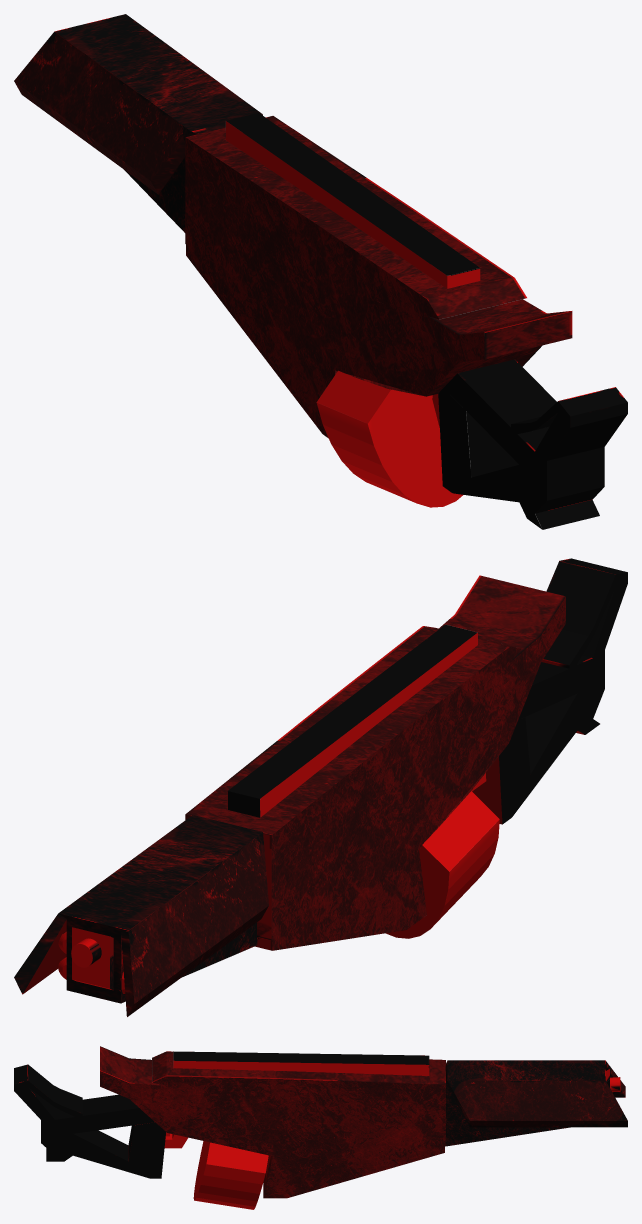
The model's file is igneous_weapon_no_norm.glb.
3 views of the same model, one above another, from view 1: azimuth 30°, elevation 25°; view 2: azimuth 150°, elevation 25°; view 3: azimuth 270°, elevation 25° (orthographic). The views are drawn at different scales.
Visible parts, largest first — view 1: body, accelerator, stock, Clip, rail; view 2: body, accelerator, stock, rail, Clip, muzzle; view 3: body, accelerator, stock, rail, Clip, trigger.
Part boxes in pixels (x1,y1,x2,y2): body: (185,116,572,438); accelerator: (14,14,262,232); stock: (438,359,627,529); Clip: (316,370,462,507); rail: (225,113,480,288); body: (185,575,565,950); accelerator: (14,815,268,1016); stock: (462,558,627,824); rail: (227,624,477,817); Clip: (386,791,499,938); muzzle: (71,927,113,990); body: (100,1046,445,1198); accelerator: (446,1060,627,1146); stock: (14,1064,165,1178); rail: (173,1051,429,1075); Clip: (193,1141,268,1209); trigger: (164,1132,187,1148).
Bounding box in the file's own units: 11.77 × 22.84 × 83.56.
Materials: 1 (1 with a texture image).
